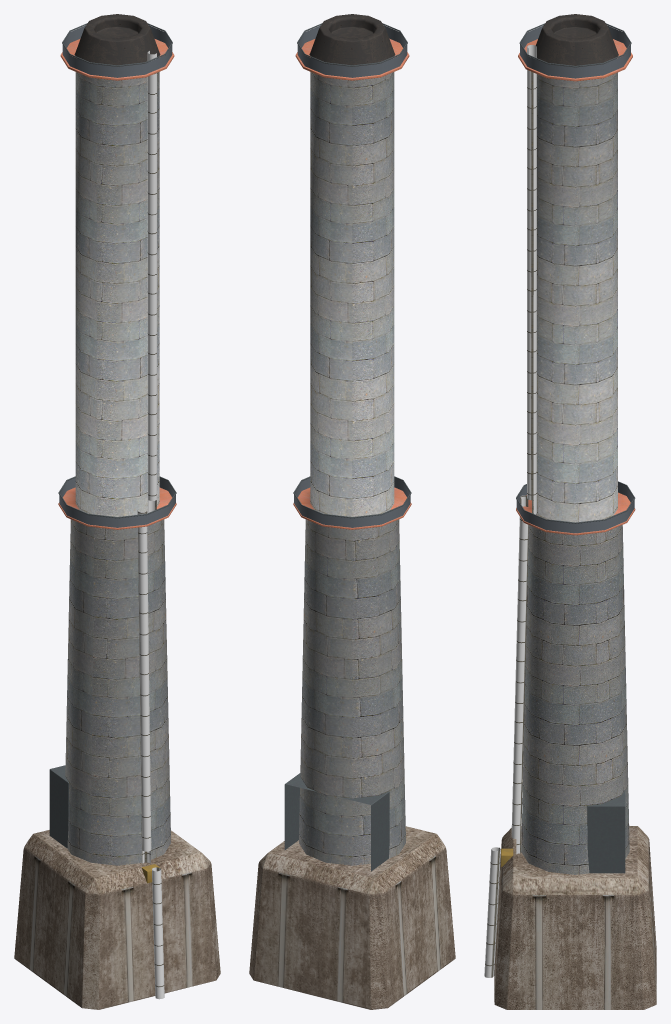
Rendered from district_props.glb.
The picture shows the model from 3 angles, left to right: view 1: azimuth 30°, elevation 25°; view 2: azimuth 150°, elevation 25°; view 3: azimuth 270°, elevation 25°; orthographic projection.
Parts seen in each view (by area): view 1: smokestack_mat, control_terminal_mat; view 2: smokestack_mat, control_terminal_mat; view 3: smokestack_mat, control_terminal_mat.
Boxes of the visible parts, x1,y1,x2,y2 form: smokestack_mat: (14,14,220,1009); control_terminal_mat: (49,765,68,848); smokestack_mat: (249,14,455,1009); control_terminal_mat: (284,773,389,871); smokestack_mat: (484,14,656,1009); control_terminal_mat: (587,790,625,873).
Bounding box in the file's own units: 4.82 × 31.13 × 5.12.
Materials: 18 (18 with a texture image).
